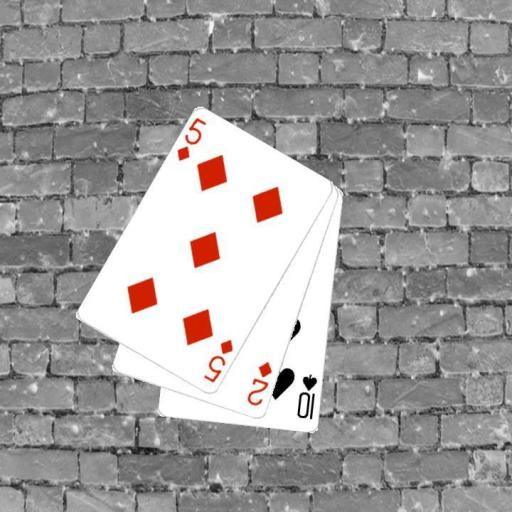card-corner: (174, 114, 208, 164), (200, 336, 234, 385), (244, 358, 274, 408), (294, 371, 319, 422)
